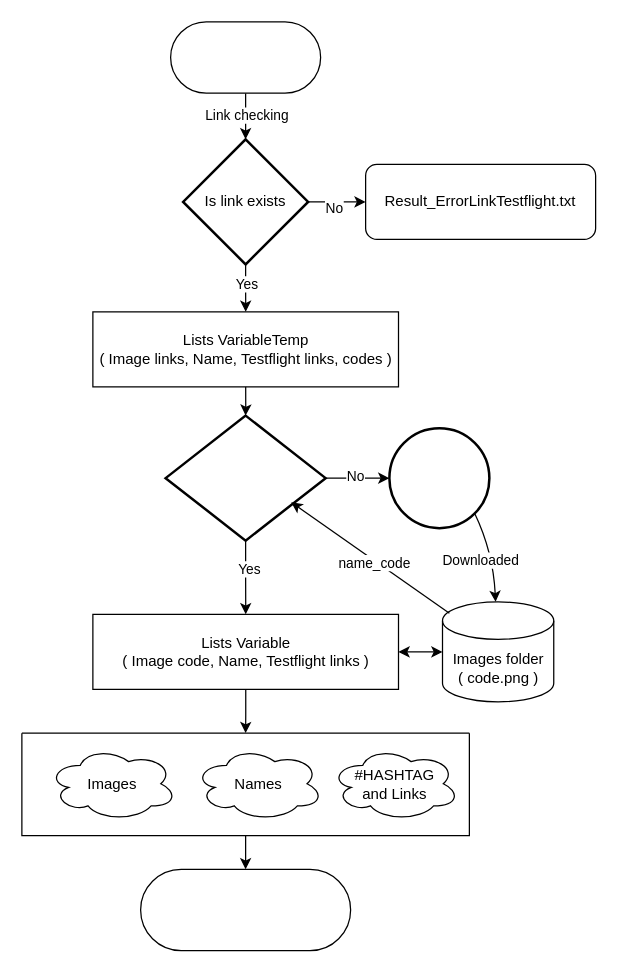
This 618x973 diagram has some shape labels left out. The box of each missing label's shape, as (x1, y1, x2, y2) in pixels:
Image downloading: (388, 426, 490, 529)
Is code.png exists in images folder?: (164, 414, 326, 541)
Result_BetaAppsAvailable.md: (139, 868, 351, 951)
Testflight_Links.txt: (169, 21, 321, 93)
